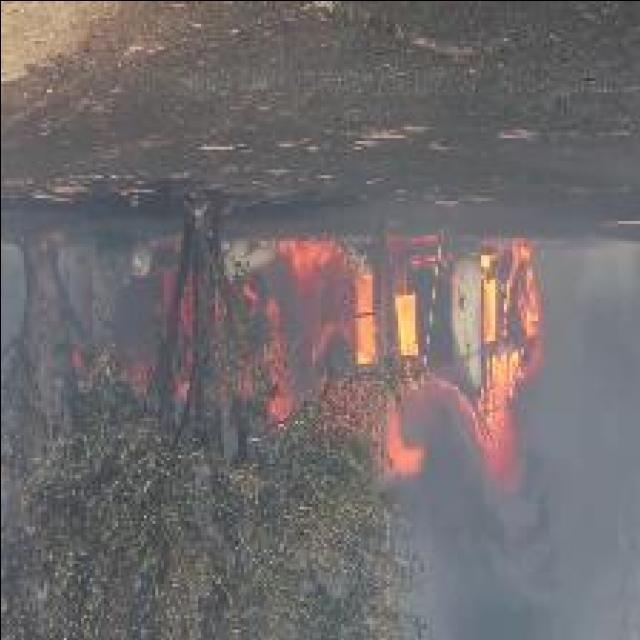Fire: (128, 236, 542, 493)
